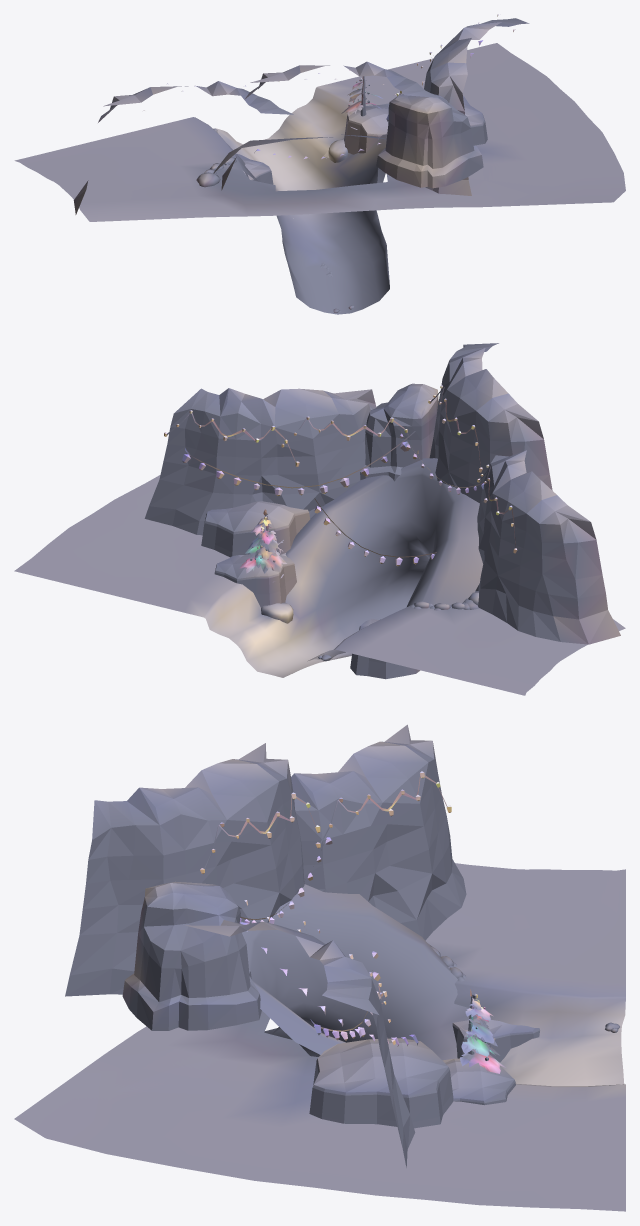
The model's file is Arctic_Luge_Tunnel_Right_15_Start_A.glb.
The picture shows the model from 3 angles, top to bottom: view 1: azimuth 30°, elevation 25°; view 2: azimuth 150°, elevation 25°; view 3: azimuth 270°, elevation 25°; orthographic projection. The views are drawn at different scales.
Visible parts, largest first — view 1: Arctic_Luge_Tunnel_Right_15_Start_A, Arctic_Luge_TallIceRock_prop, Arctic_Luge_IceWall_prop (1), Arctic_Luge_IceWall_prop, Arctic_Luge_IceWall_prop (2), Arctic_Luge_SmallIceRock_prop (1), Arctic_Luge_SmallIceRock_prop (2), Arctic_Luge_SmallIceRock_prop; view 2: Arctic_Luge_Tunnel_Right_15_Start_A, Arctic_Luge_IceWall_prop (1), Arctic_Luge_IceWall_prop, Arctic_Luge_IceWall_prop (2), Arctic_Luge_TallIceRock_prop, Arctic_Luge_SmallIceRock_prop (2), Arctic_Luge_SmallIceRock_prop (1), Arctic_Luge_SmallIceRock_prop, Arctic_StringLights_holiday (1), Arctic_PineA_leavesBottom_holiday_multicolour, Arctic_StringLights_holiday (2); view 3: Arctic_Luge_Tunnel_Right_15_Start_A, Arctic_Luge_IceWall_prop (2), Arctic_Luge_IceWall_prop, Arctic_Luge_TallIceRock_prop, Arctic_Luge_SmallIceRock_prop (2), Arctic_Luge_IceWall_prop (1), Arctic_Luge_SmallIceRock_prop (1), Arctic_Luge_SmallIceRock_prop, Arctic_PineA_leavesBottom_holiday_multicolour.
Boxes of the visible parts, x1,y1,x2,y2 form: Arctic_Luge_Tunnel_Right_15_Start_A: (14, 43, 625, 314); Arctic_Luge_TallIceRock_prop: (376, 93, 483, 188); Arctic_Luge_IceWall_prop (1): (424, 18, 529, 195); Arctic_Luge_IceWall_prop: (73, 81, 293, 214); Arctic_Luge_IceWall_prop (2): (221, 61, 439, 190); Arctic_Luge_SmallIceRock_prop (1): (344, 103, 389, 154); Arctic_Luge_SmallIceRock_prop (2): (463, 96, 487, 145); Arctic_Luge_SmallIceRock_prop: (237, 154, 273, 184); Arctic_Luge_Tunnel_Right_15_Start_A: (14, 458, 625, 695); Arctic_Luge_IceWall_prop (1): (144, 388, 376, 535); Arctic_Luge_IceWall_prop: (475, 450, 620, 644); Arctic_Luge_IceWall_prop (2): (429, 343, 552, 503); Arctic_Luge_TallIceRock_prop: (360, 383, 438, 481); Arctic_Luge_SmallIceRock_prop (2): (201, 501, 310, 557); Arctic_Luge_SmallIceRock_prop (1): (214, 554, 296, 607); Arctic_Luge_SmallIceRock_prop: (350, 619, 420, 679); Arctic_StringLights_holiday (1): (182, 431, 415, 496); Arctic_PineA_leavesBottom_holiday_multicolour: (239, 542, 286, 573); Arctic_StringLights_holiday (2): (314, 498, 436, 566); Arctic_Luge_Tunnel_Right_15_Start_A: (14, 863, 625, 1211); Arctic_Luge_IceWall_prop (2): (65, 743, 304, 996); Arctic_Luge_IceWall_prop: (291, 724, 466, 940); Arctic_Luge_TallIceRock_prop: (122, 881, 261, 1030); Arctic_Luge_SmallIceRock_prop (2): (309, 1038, 453, 1128); Arctic_Luge_IceWall_prop (1): (185, 920, 415, 1167); Arctic_Luge_SmallIceRock_prop (1): (442, 1058, 515, 1105); Arctic_Luge_SmallIceRock_prop: (452, 1018, 539, 1062); Arctic_PineA_leavesBottom_holiday_multicolour: (460, 1031, 506, 1073).
Size of what is drawn, in the model's own units: 26.75 by 12.96 by 19.63.
